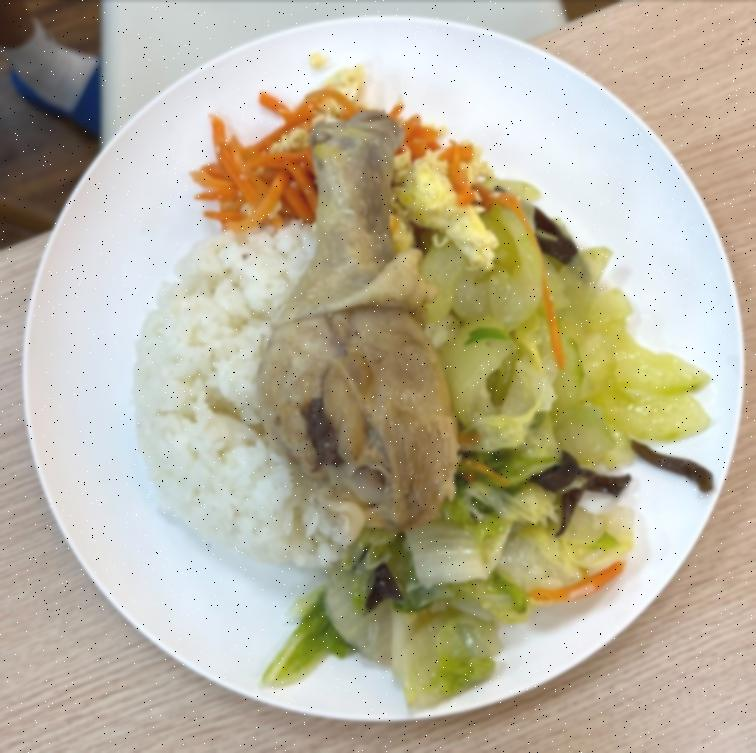big fried chicken leg: (9, 18, 756, 722)
big herbal chicken leg: (128, 224, 372, 565)
braised fish fillet: (424, 190, 710, 498), (252, 500, 632, 698), (206, 79, 496, 253)
braised pork: (254, 112, 465, 534)
